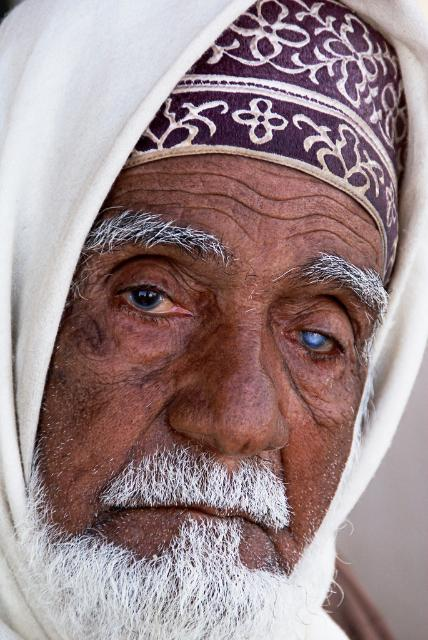forehead: (198, 166, 254, 227), (332, 198, 376, 268), (270, 184, 324, 236), (134, 169, 184, 207)
